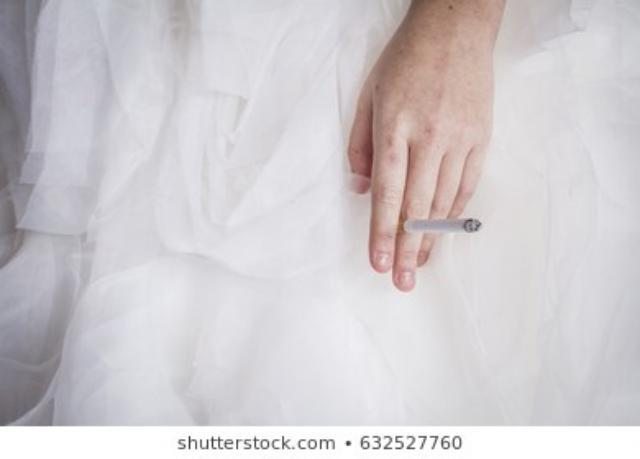Smoking: (397, 214, 491, 234)
